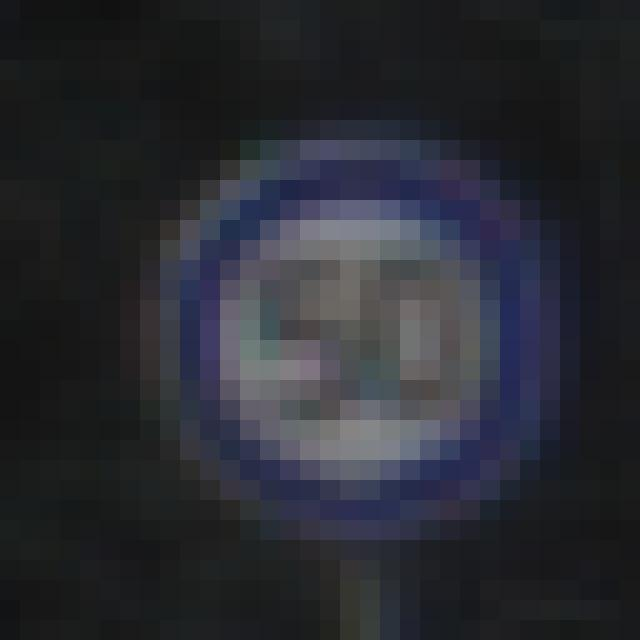SPEED LIMIT 50: (194, 184, 518, 512)
